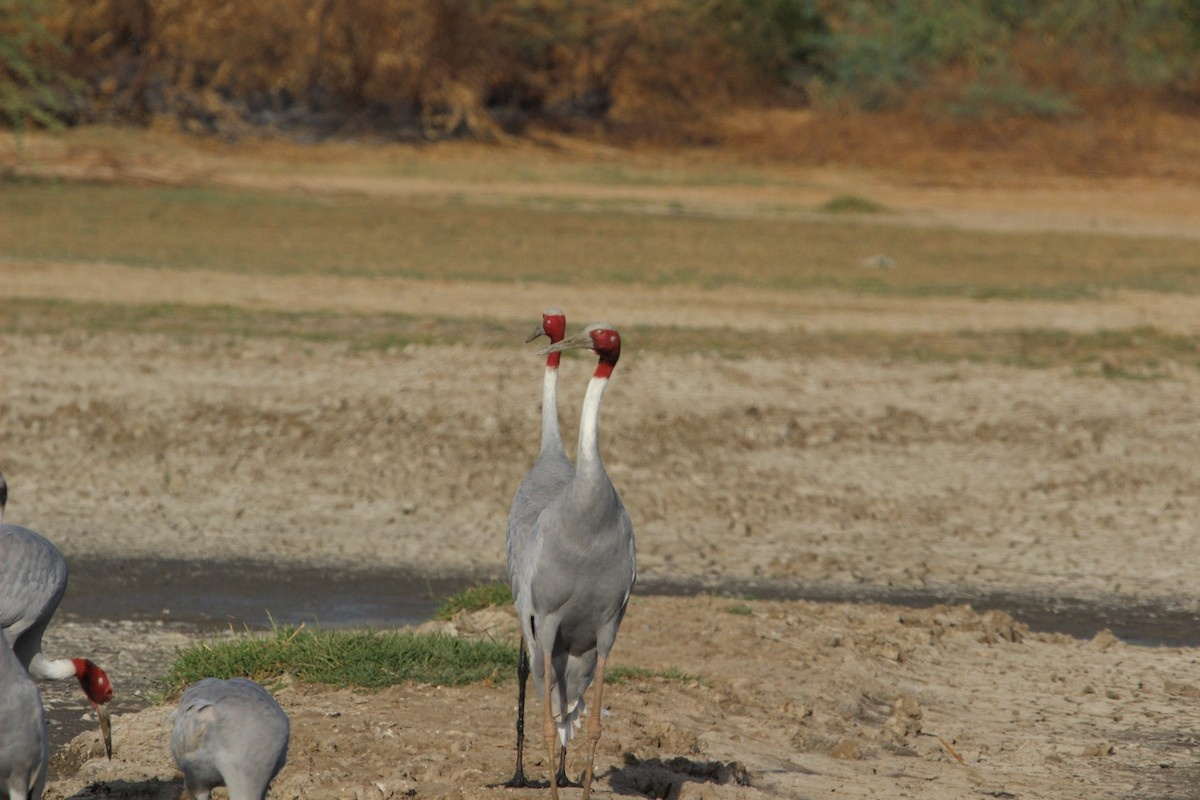crane: (543, 322, 649, 780), (1, 525, 127, 767), (515, 307, 567, 493)
